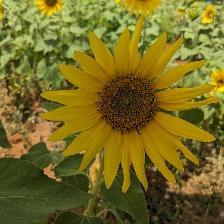sunflower: (51, 38, 209, 181)
